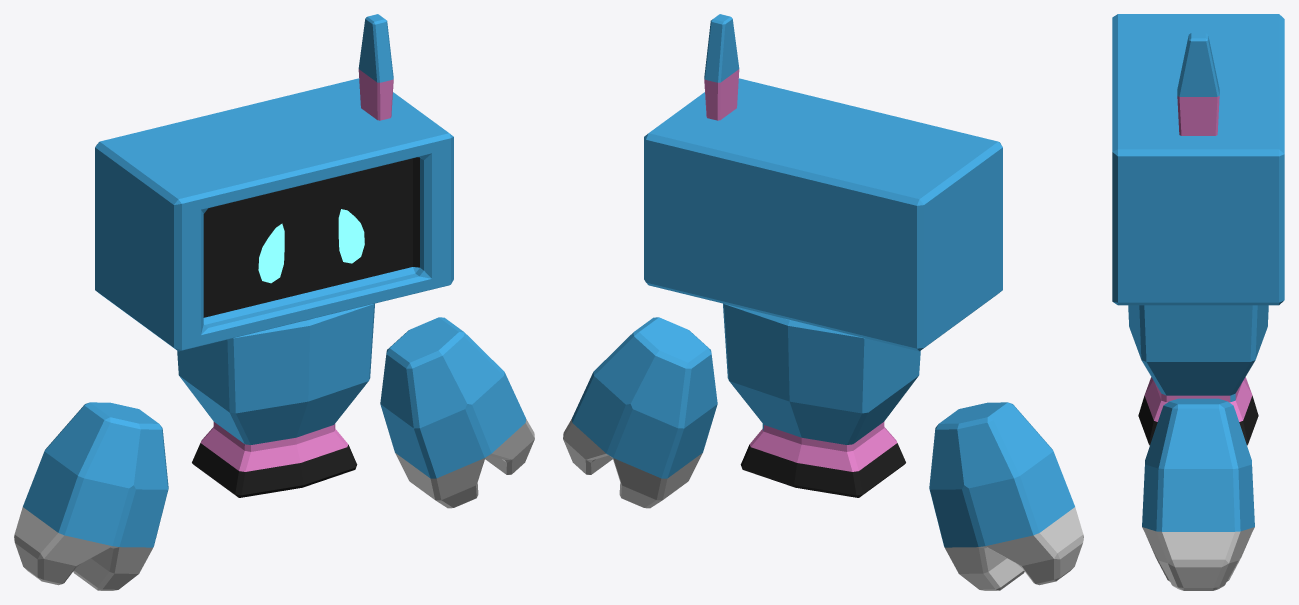
File: Robot03.fbx
3 views of the same model, side by side, from view 1: azimuth 30°, elevation 25°; view 2: azimuth 150°, elevation 25°; view 3: azimuth 270°, elevation 25° (orthographic). The views are drawn at different scales.
Parts seen in each view (by area): view 1: Cube.012, Cube.014, Cube.013, Cube.015, Plane.003; view 2: Cube.012, Cube.014, Cube.013, Cube.015; view 3: Cube.012, Cube.014, Cube.013, Cube.015.
Boxes of the visible parts, x1,y1,x2,y2 form: Cube.012: (95, 78, 453, 351); Cube.014: (14, 317, 534, 590); Cube.013: (177, 303, 374, 497); Cube.015: (358, 14, 393, 120); Plane.003: (258, 209, 364, 283); Cube.012: (644, 78, 1002, 351); Cube.014: (563, 317, 1083, 590); Cube.013: (723, 303, 920, 497); Cube.015: (704, 14, 739, 120); Cube.012: (1112, 14, 1284, 305); Cube.014: (1142, 398, 1254, 590); Cube.013: (1128, 305, 1268, 445); Cube.015: (1177, 33, 1219, 135).
Bounding box in the file's own units: 110 × 106 × 32.18.
